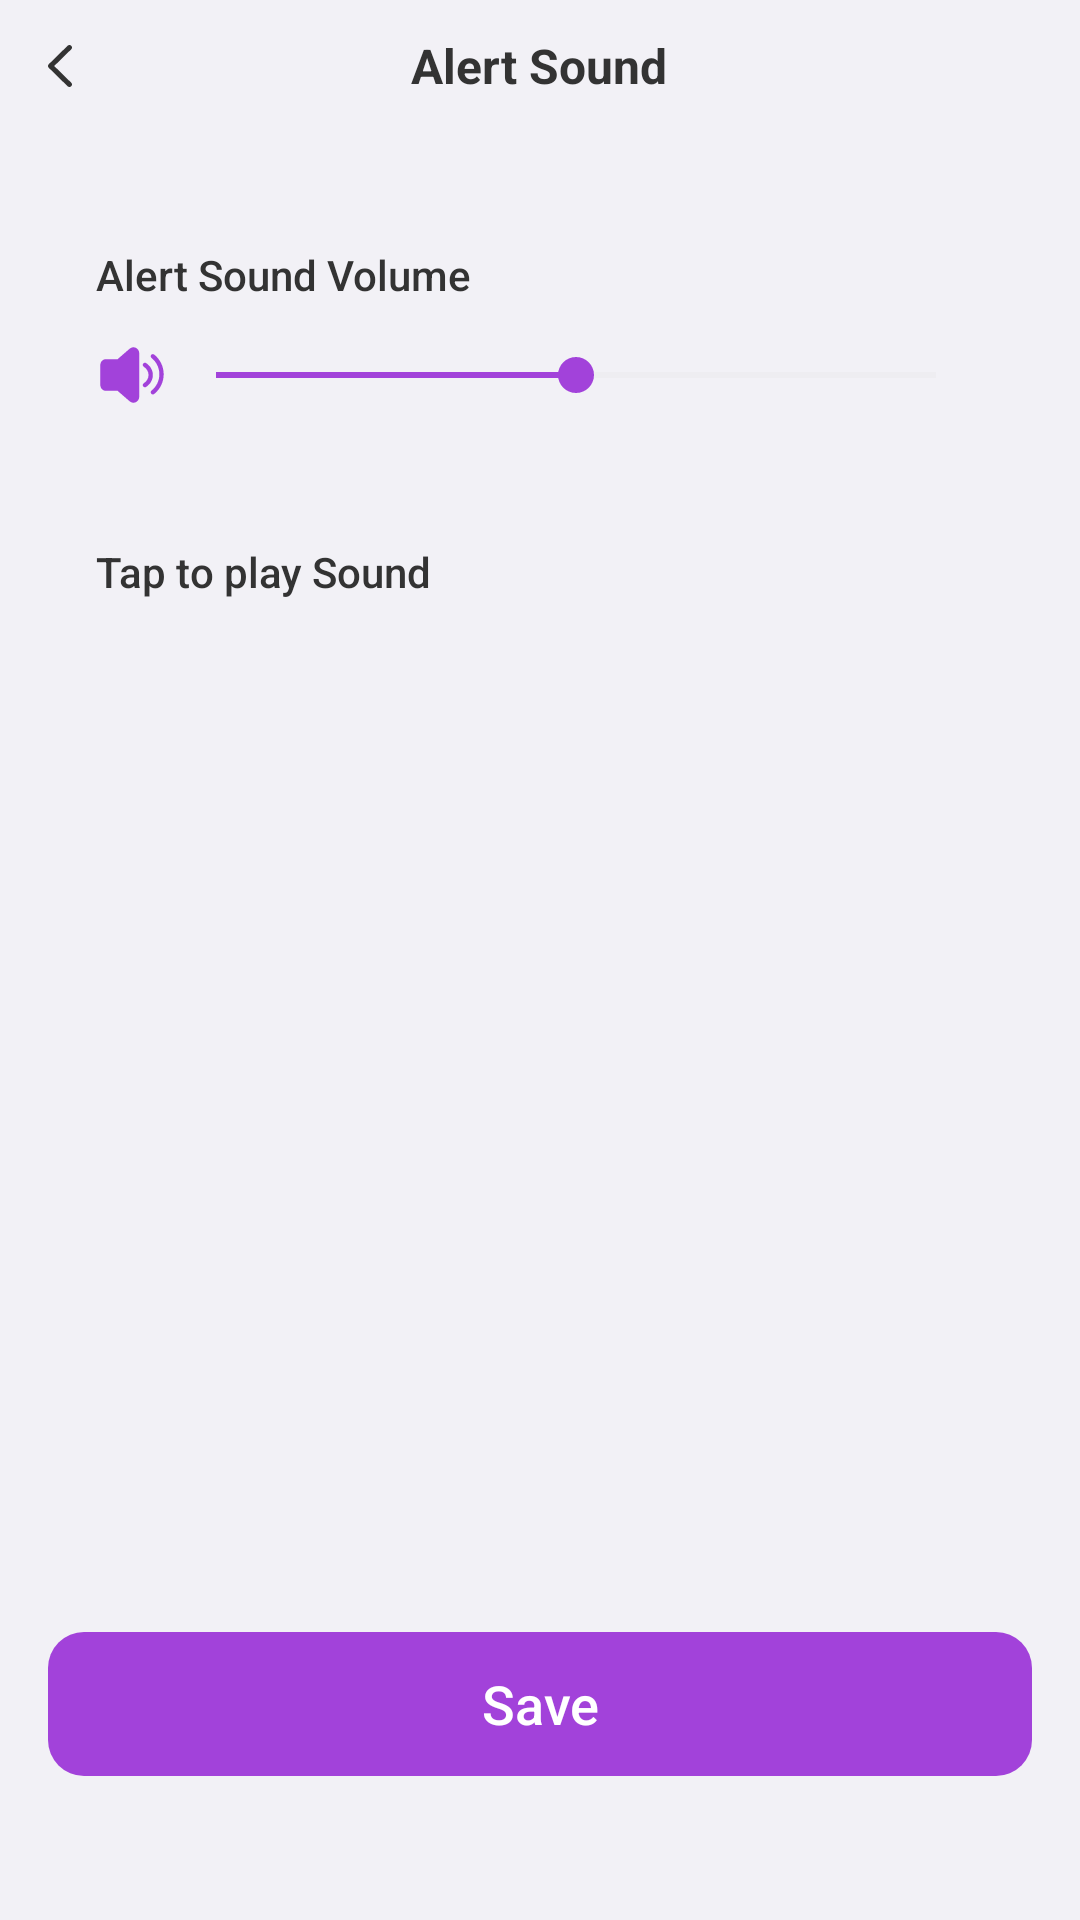

Icons on this 1080x1920 Android screen, each with its box as {"left": x1, "top": y1, "right": x2, "bottom": y2}:
clap back: {"left": 48, "top": 45, "right": 72, "bottom": 87}
clap sound value: {"left": 100, "top": 347, "right": 164, "bottom": 403}
